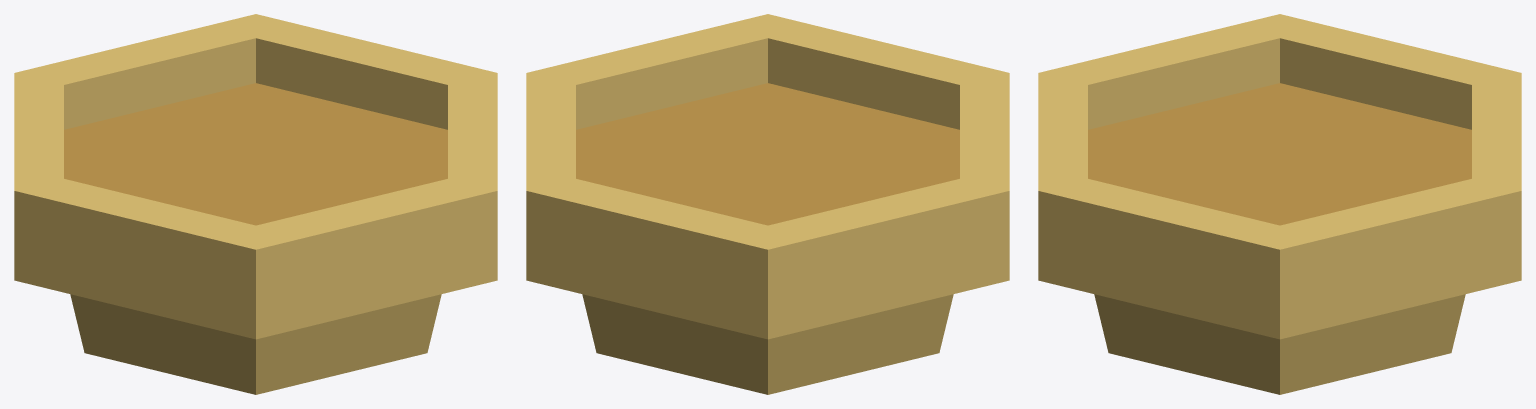
The model's file is nest.glb.
3 renders of one model, left to right at view 1: azimuth 30°, elevation 25°; view 2: azimuth 150°, elevation 25°; view 3: azimuth 270°, elevation 25°, orthographic.
Visible parts, largest first — view 1: pot_large; view 2: pot_large; view 3: pot_large.
Part boxes in pixels (x1=…): pot_large: x1=14, y1=14, x2=497, y2=394; pot_large: x1=526, y1=14, x2=1009, y2=394; pot_large: x1=1038, y1=14, x2=1521, y2=394.
Size of the model in its own units: 3.38 by 1.2 by 2.93.
